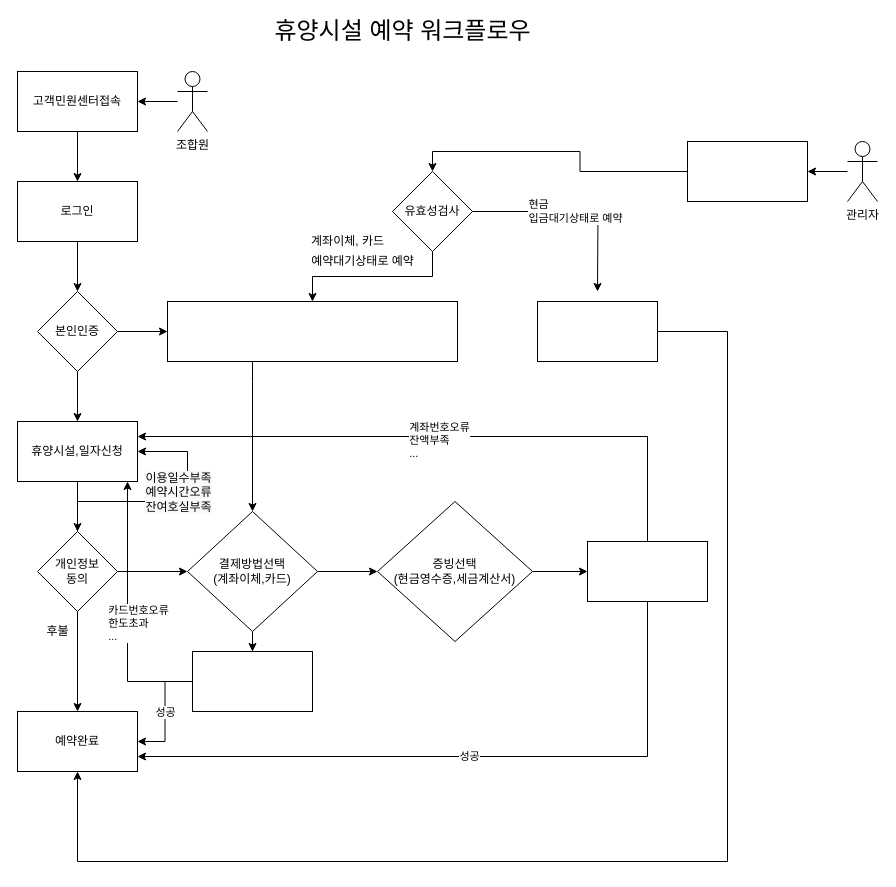
The diagram is 896 pixels wide and 887 high, and some of its shapes have lost their labels. Each missing label, with the centre of its shape:
"계좌이체(뱅크페이)" goes at point (647, 571).
"예약확인페이지 (관리자가 월별예약관리에서 미리 방을 잡아둔 경우 )" goes at point (312, 331).
"월별예약관리" goes at point (747, 171).
"카드결제(이지페이)" goes at point (252, 681).
"휴양시설신청관리 입금확인" goes at point (597, 331).
